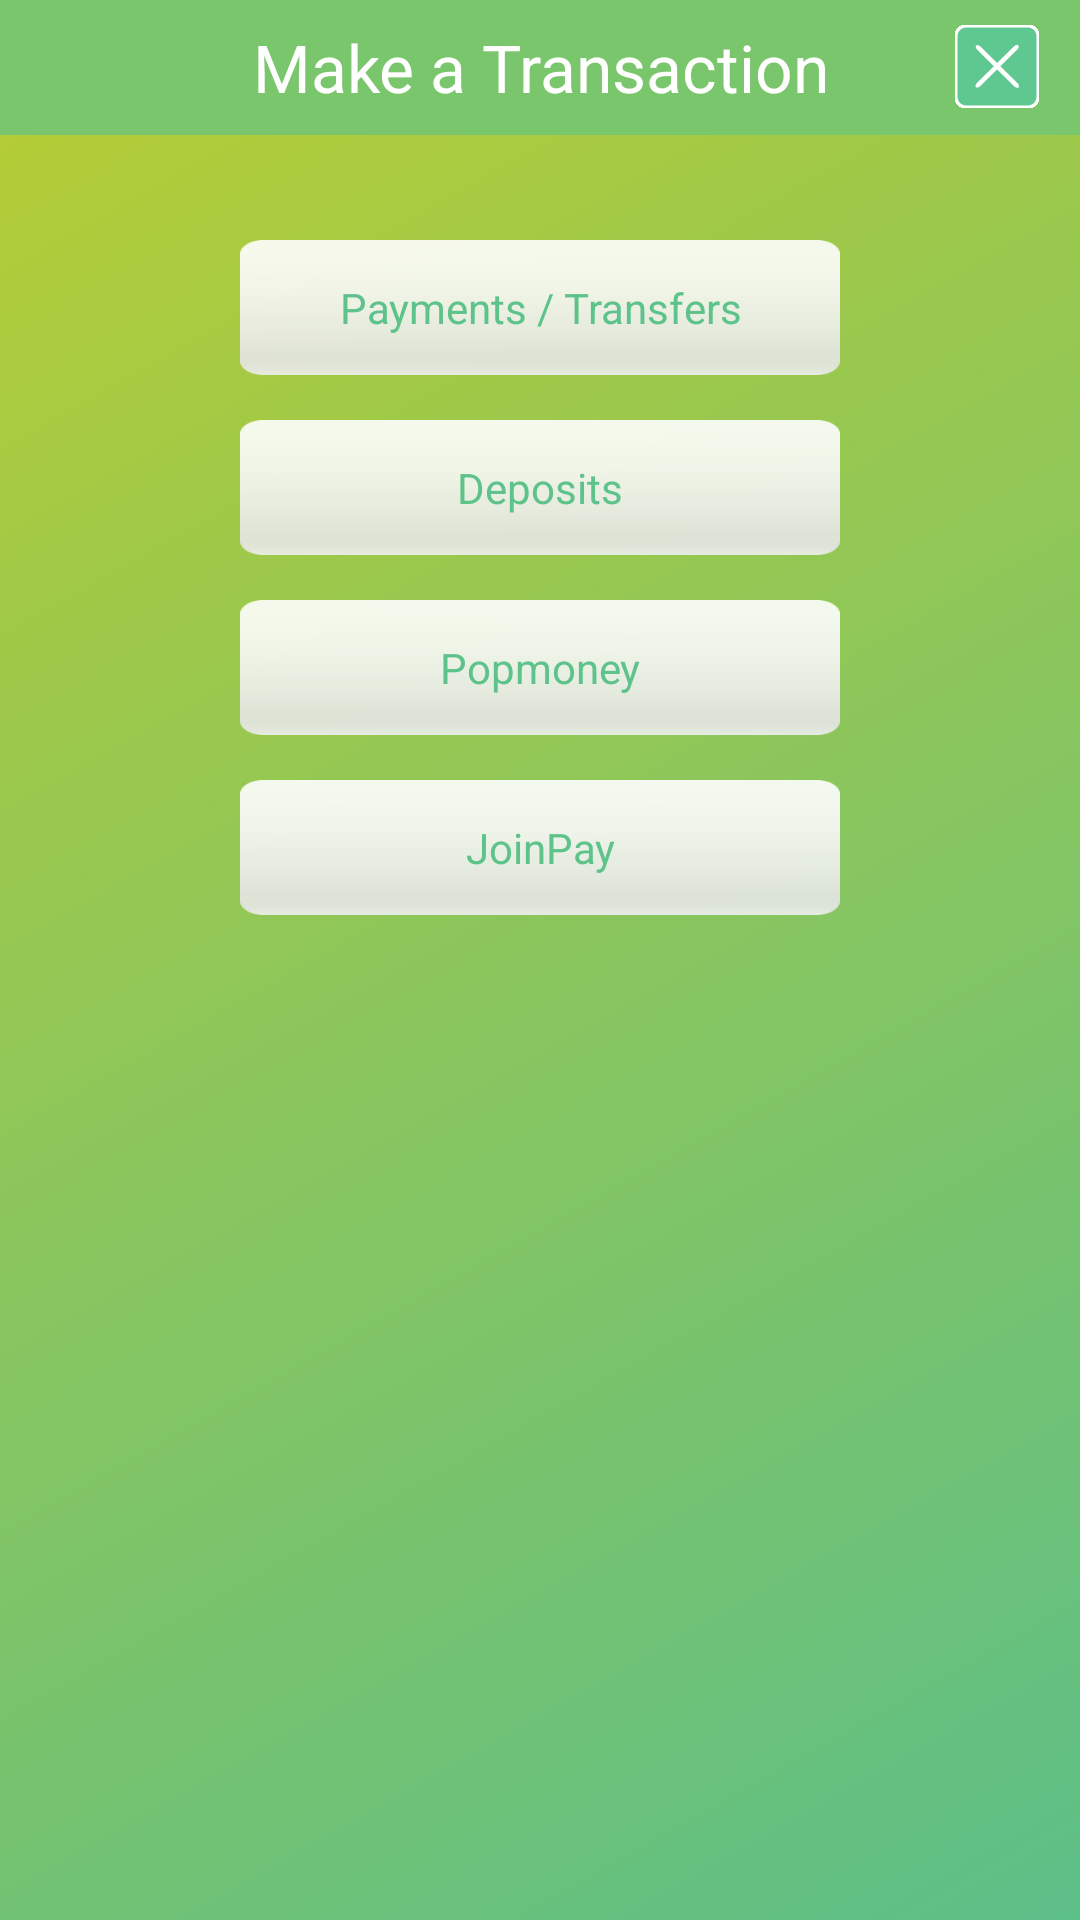

Point at icon controls on the screen. Image size 1080 x 1920, points as point (x, y).
cross: point (997, 66)
